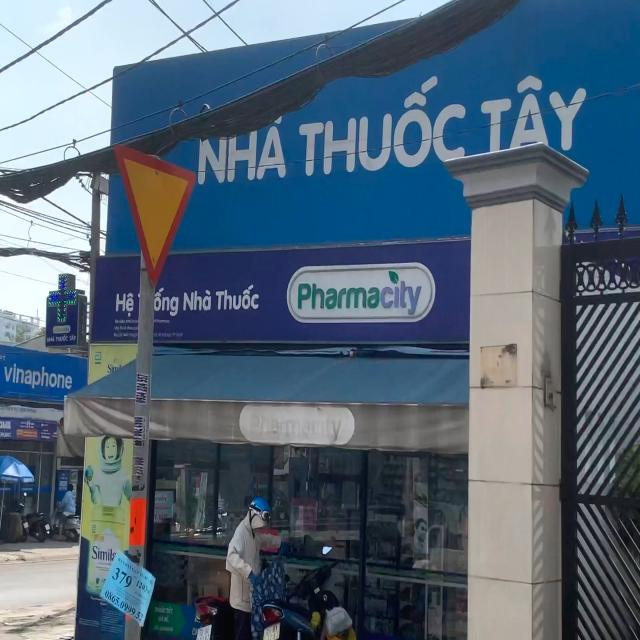W.208: (108, 129, 203, 294)
